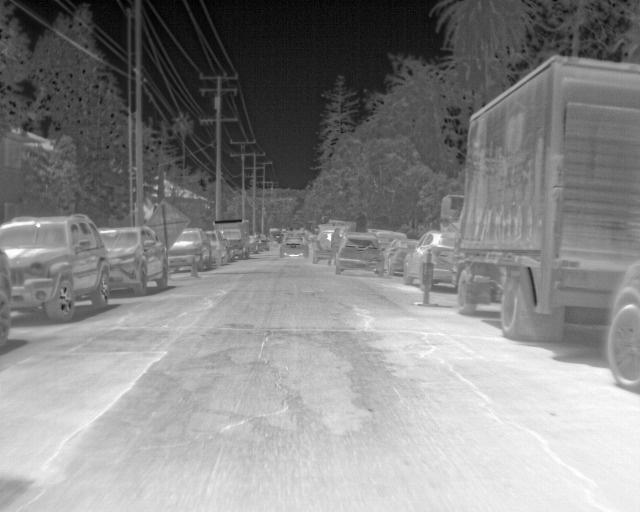bicycle: (1, 212, 111, 324), (93, 225, 167, 299), (602, 264, 638, 394), (403, 227, 458, 286), (334, 234, 385, 277), (170, 227, 213, 272), (383, 239, 418, 275), (198, 229, 227, 265), (276, 229, 309, 258), (313, 226, 333, 262)
empty: (325, 224, 341, 266)
